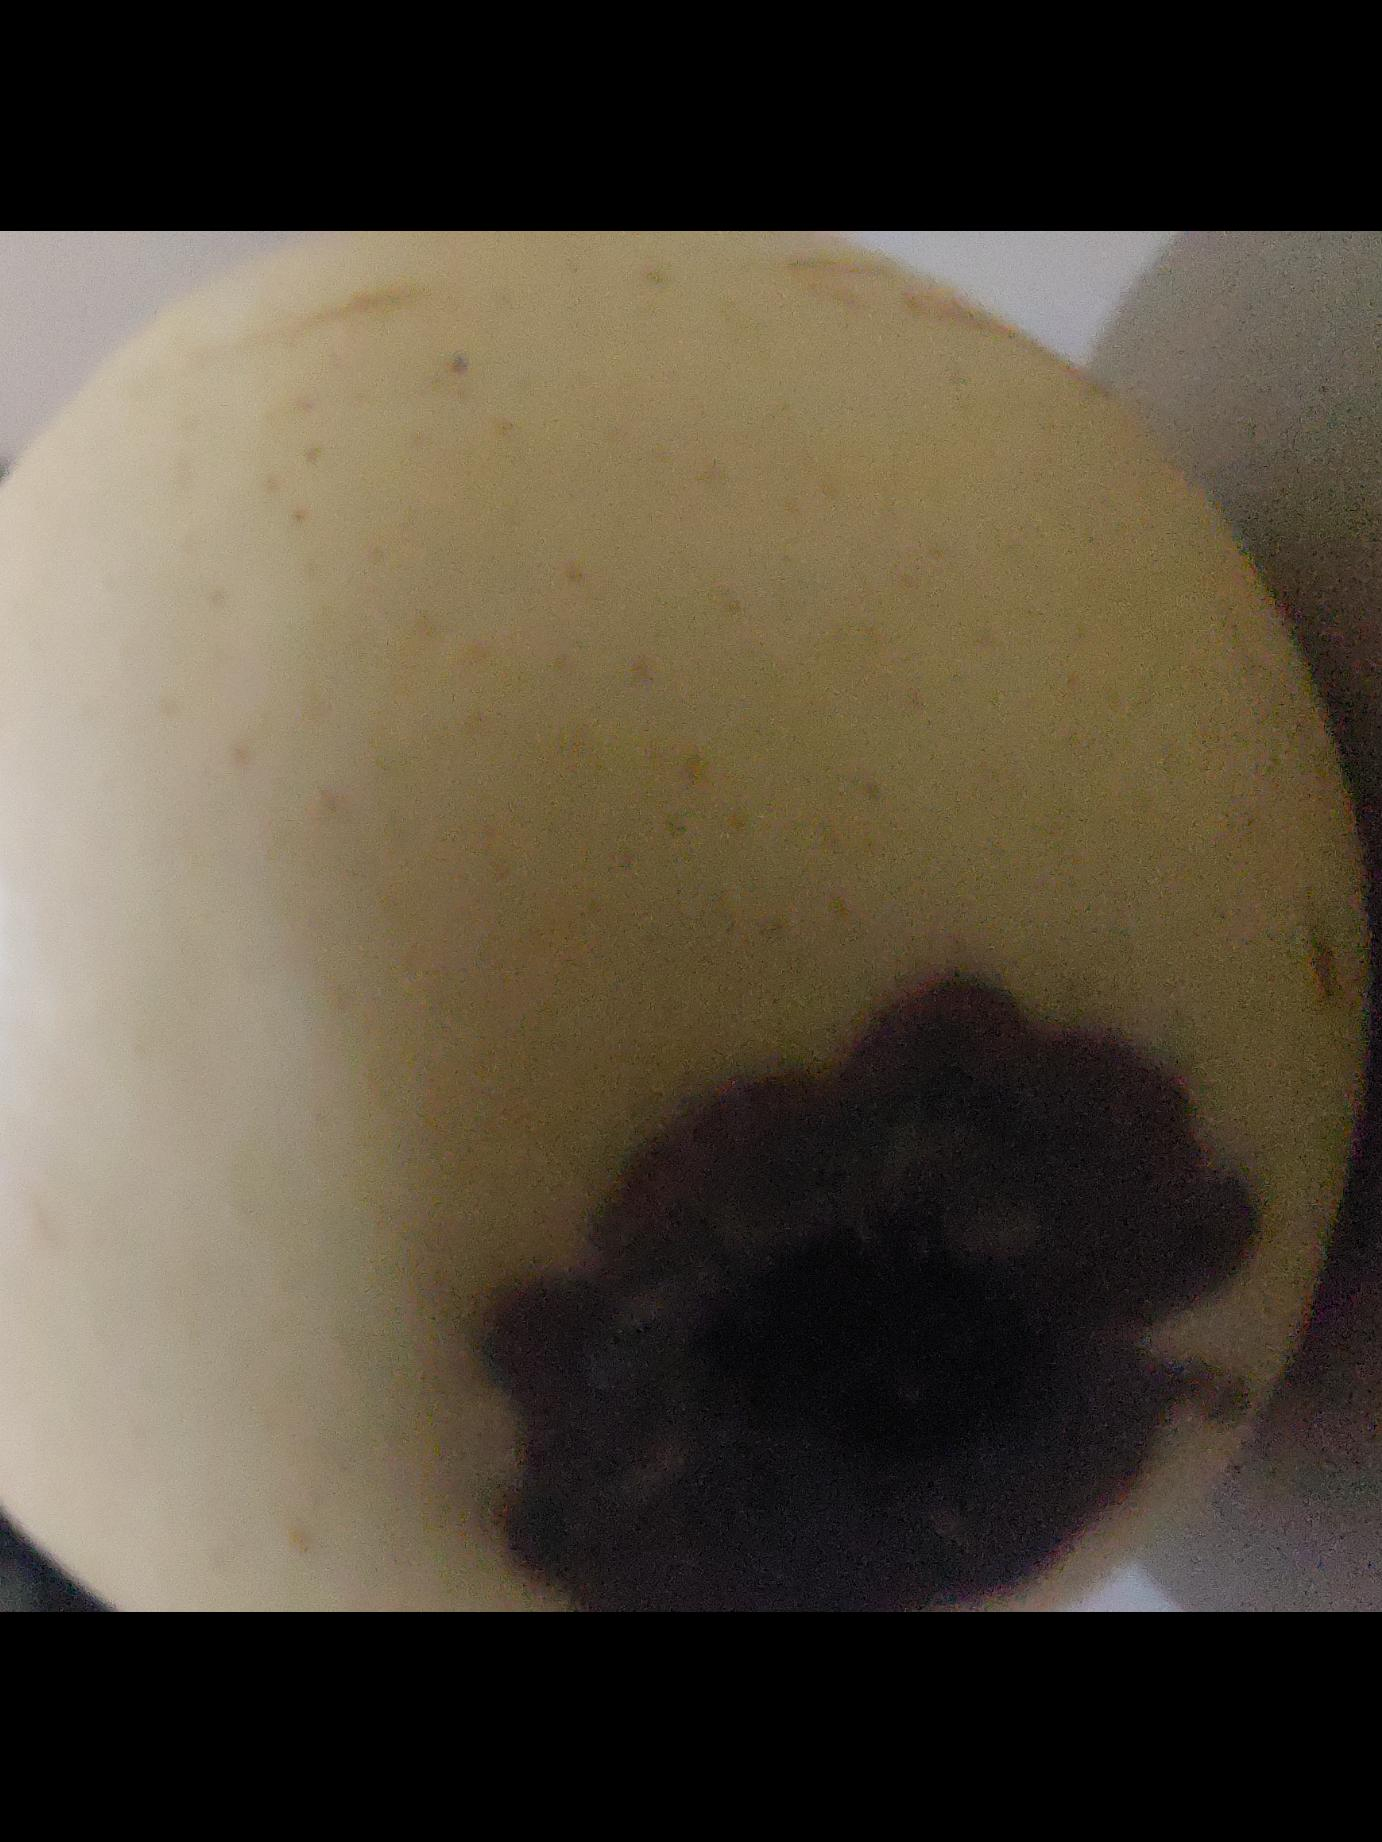Bad Pear: (126, 234, 1382, 1613)
